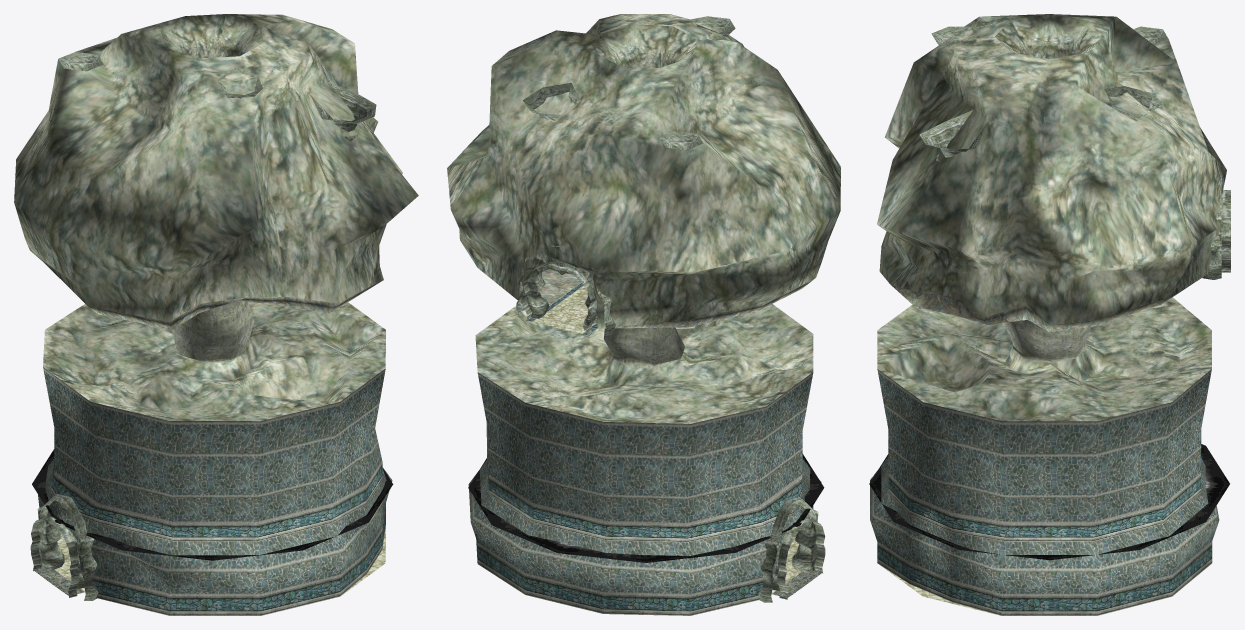
3 renders of one model, left to right at view 1: azimuth 30°, elevation 25°; view 2: azimuth 150°, elevation 25°; view 3: azimuth 270°, elevation 25°, orthographic.
Parts seen in each view (by area): view 1: Shape 15, Shape 5, Shape 8, Shape 3, Shape 14, Shape 6, Shape 17, Shape 7; view 2: Shape 15, Shape 5, Shape 8, Shape 3, Shape 17, Shape 14, Shape 6, Shape 7; view 3: Shape 15, Shape 5, Shape 8, Shape 3, Shape 17, Shape 6, Shape 14.
Part boxes in pixels (bbox=[...]): Shape 15: bbox=[14, 14, 418, 421]; Shape 5: bbox=[38, 367, 392, 594]; Shape 8: bbox=[51, 459, 385, 615]; Shape 3: bbox=[30, 52, 376, 600]; Shape 14: bbox=[172, 301, 254, 363]; Shape 6: bbox=[88, 245, 383, 329]; Shape 17: bbox=[32, 449, 393, 560]; Shape 7: bbox=[54, 525, 385, 594]; Shape 15: bbox=[447, 14, 840, 423]; Shape 5: bbox=[468, 372, 821, 594]; Shape 8: bbox=[476, 447, 802, 615]; Shape 3: bbox=[516, 16, 825, 602]; Shape 17: bbox=[468, 454, 824, 562]; Shape 14: bbox=[604, 327, 684, 368]; Shape 6: bbox=[539, 269, 814, 328]; Shape 7: bbox=[506, 286, 801, 615]; Shape 15: bbox=[877, 14, 1226, 421]; Shape 5: bbox=[870, 369, 1219, 594]; Shape 8: bbox=[877, 474, 1211, 615]; Shape 3: bbox=[919, 26, 1230, 308]; Shape 17: bbox=[869, 444, 1229, 560]; Shape 6: bbox=[891, 275, 1205, 332]; Shape 14: bbox=[1004, 319, 1091, 362].
Size of the model in its own units: 2124 by 3005 by 1938.
